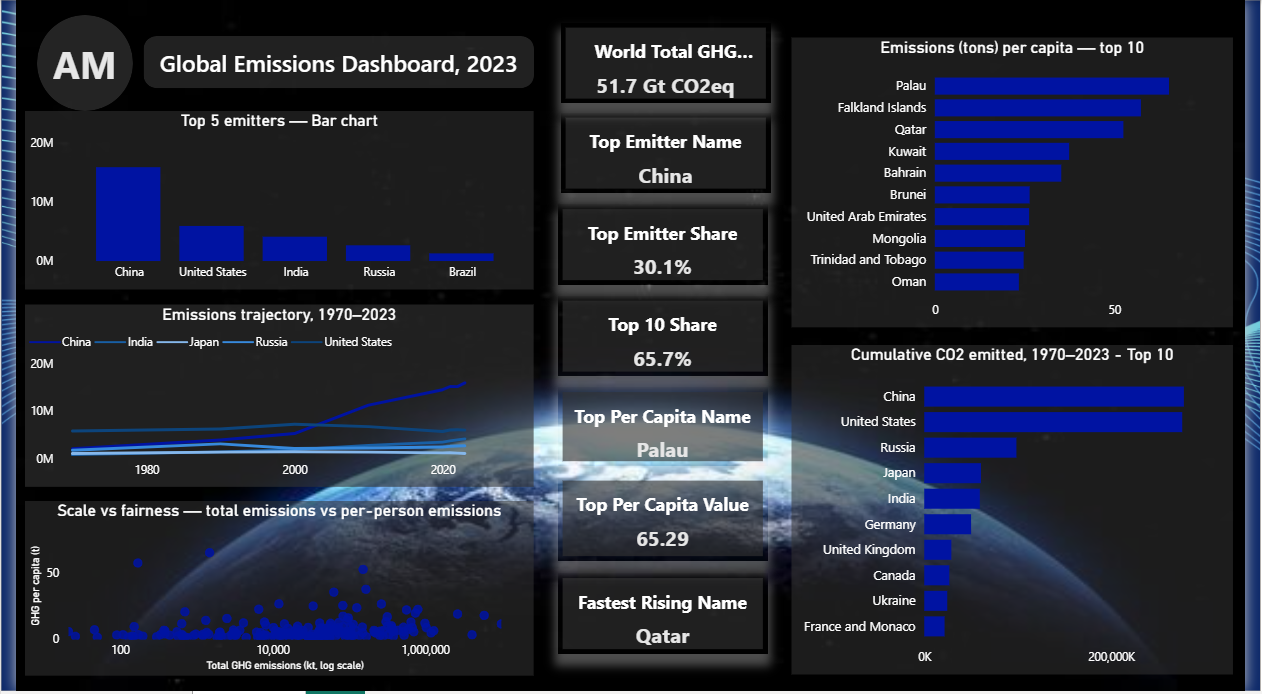

Layout of this report page (visuals, bound fields, positions):
{"tool":"powerbi","page":{"name":"Page 1","canvas":[1280,720],"ordinal":0},"visuals":[{"type":"cardVisual","fields":{"Data":["climate_dashboard_data.Top Emitter Name"]},"box":[566.7,117.8,219.3,84.2],"z":0},{"type":"cardVisual","fields":{"Data":["climate_dashboard_data.World Total GHG Label"]},"box":[566.7,22.8,219.3,84.2],"z":1000},{"type":"shape","box":[133.3,36.8,407,54.4],"z":2000},{"type":"shape","box":[21.2,15.4,100,100],"z":3000},{"type":"clusteredColumnChart","title":"Top 5 emitters — Bar chart","fields":{"Category":["climate_dashboard_data.country"],"Y":["Sum(climate_dashboard_data.ghg_2023_kt)"]},"box":[10,116,530,186],"z":4000},{"type":"cardVisual","fields":{"Data":["climate_dashboard_data.Fastest Rising Name"]},"box":[564.9,596.5,219.3,84.2],"z":5000},{"type":"cardVisual","fields":{"Data":["climate_dashboard_data.Top Emitter Share"]},"box":[564.9,212.9,219.3,84.2],"z":6000},{"type":"cardVisual","fields":{"Data":["climate_dashboard_data.Top 10 Share"]},"box":[564.9,307.9,219.3,84.2],"z":7000},{"type":"cardVisual","fields":{"Data":["climate_dashboard_data.Top Per Capita Name"]},"box":[564.9,402.9,219.3,82.5],"z":8000},{"type":"scatterChart","title":"Scale vs fairness — total emissions vs per-person emissions","fields":{"X":["climate_dashboard_data.ghg_2023_kt"],"Y":["climate_dashboard_data.ghg_per_capita_2023"]},"box":[10,522,530,182],"z":9000},{"type":"barChart","title":"Cumulative CO2 emitted, 1970–2023 - Top 10","fields":{"Category":["climate_dashboard_data.country"],"Y":["Sum(climate_dashboard_data.co2_cumulative_1970_2023_kt)"]},"box":[808.3,360,460,343.3],"z":10000},{"type":"lineChart","title":"Emissions trajectory, 1970–2023","fields":{"Category":["emissions_trend.Year"],"Series":["emissions_trend.country"],"Y":["Sum(emissions_trend.ghg_kt)"]},"box":[10,318,530,190],"z":11000},{"type":"clusteredBarChart","title":"Emissions (tons) per capita — top 10","fields":{"Category":["climate_dashboard_data.country"],"Y":["Sum(climate_dashboard_data.ghg_per_capita_2023)"]},"box":[808.3,38.3,460,301.7],"z":12000},{"type":"cardVisual","fields":{"Data":["climate_dashboard_data.Top Per Capita Value"]},"box":[564.9,496.2,219.3,89.5],"z":13000}]}

Visuals, with their boxes in screenshot pixels (x1, y1, x2, y2), scaled from the page's 1280x720 canvas onto the 1262x694 screenshot:
cardVisual - climate_dashboard_data.Top Emitter Name: 559/114/775/195
cardVisual - climate_dashboard_data.World Total GHG Label: 559/22/775/103
shape: 131/35/533/88
shape: 21/15/119/111
"Top 5 emitters — Bar chart" clusteredColumnChart: 10/112/532/291
cardVisual - climate_dashboard_data.Fastest Rising Name: 557/575/773/656
cardVisual - climate_dashboard_data.Top Emitter Share: 557/205/773/286
cardVisual - climate_dashboard_data.Top 10 Share: 557/297/773/378
cardVisual - climate_dashboard_data.Top Per Capita Name: 557/388/773/468
"Scale vs fairness — total emissions vs per-person emissions" scatterChart: 10/503/532/679
"Cumulative CO2 emitted, 1970–2023 - Top 10" barChart: 797/347/1250/678
"Emissions trajectory, 1970–2023" lineChart: 10/307/532/490
"Emissions (tons) per capita — top 10" clusteredBarChart: 797/37/1250/328
cardVisual - climate_dashboard_data.Top Per Capita Value: 557/478/773/565
